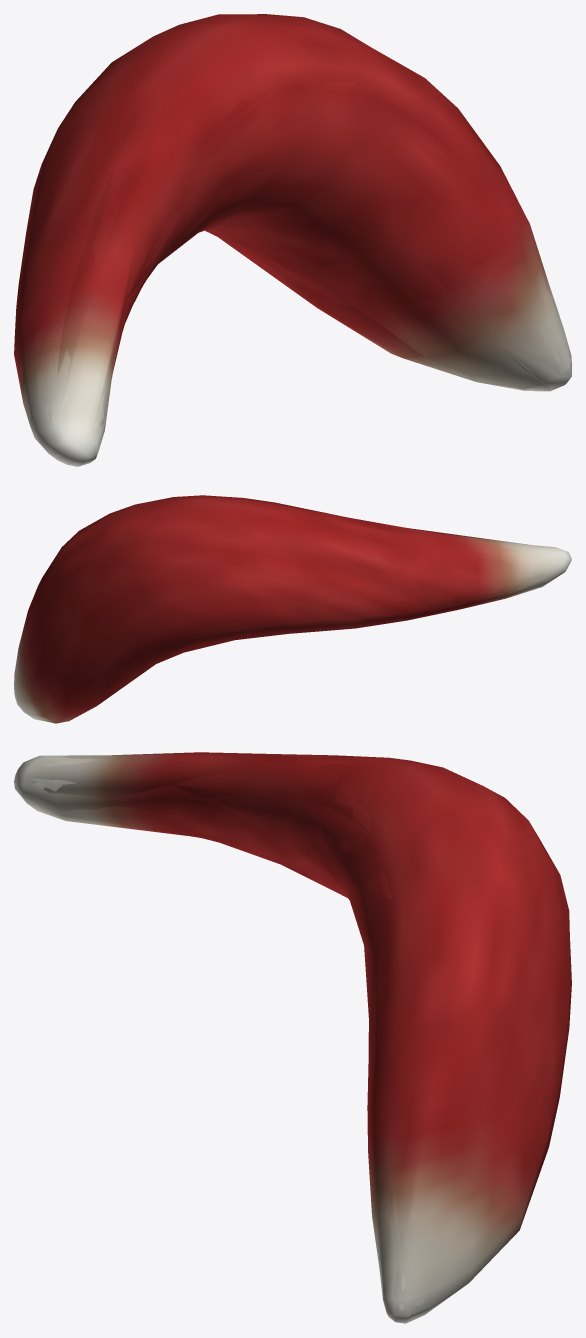
Rendered from R Obturatorius Externus.fbx.
3 renders of one model, top to bottom at view 1: azimuth 30°, elevation 25°; view 2: azimuth 150°, elevation 25°; view 3: azimuth 270°, elevation 25°, orthographic. The views are drawn at different scales.
Parts seen in each view (by area): view 1: R Obturatorius Externus, R Obturatorius Externus low, R Obturatorius Externus high; view 2: R Obturatorius Externus, R Obturatorius Externus low, R Obturatorius Externus high; view 3: R Obturatorius Externus, R Obturatorius Externus low, R Obturatorius Externus high.
Boxes of the visible parts, left/top/right/bottom form: R Obturatorius Externus: left=14, top=14, right=571, bottom=466; R Obturatorius Externus low: left=14, top=14, right=571, bottom=444; R Obturatorius Externus high: left=17, top=27, right=560, bottom=463; R Obturatorius Externus: left=14, top=495, right=571, bottom=723; R Obturatorius Externus low: left=18, top=503, right=569, bottom=723; R Obturatorius Externus high: left=24, top=498, right=566, bottom=714; R Obturatorius Externus: left=14, top=752, right=571, bottom=1323; R Obturatorius Externus low: left=18, top=752, right=557, bottom=1323; R Obturatorius Externus high: left=21, top=754, right=570, bottom=1316.
Bounding box in the file's own units: 2.45 × 1.39 × 1.79.
1 material, 1 textured.
